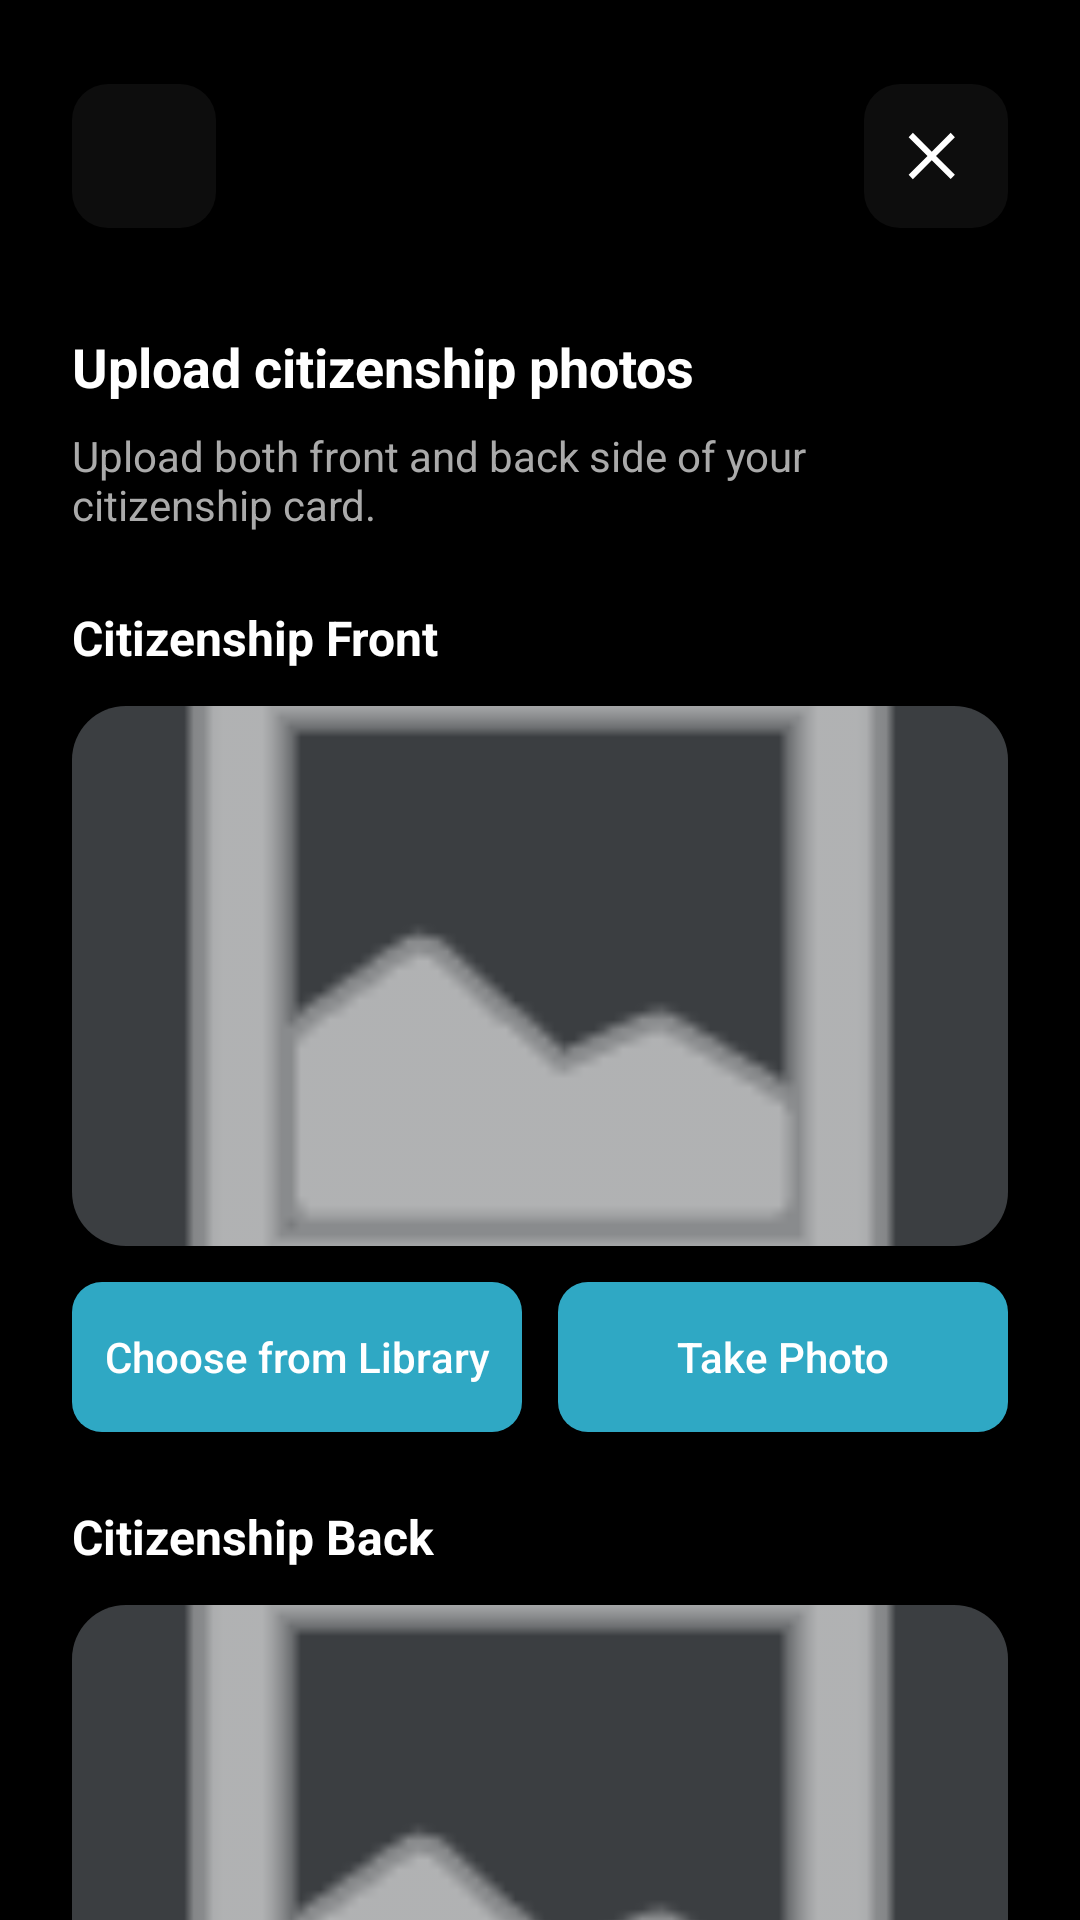

Where icons sit on this 1080px x 1920px app screen, as (x1, y1, x2, y2):
Close: (864, 84, 1008, 228)
